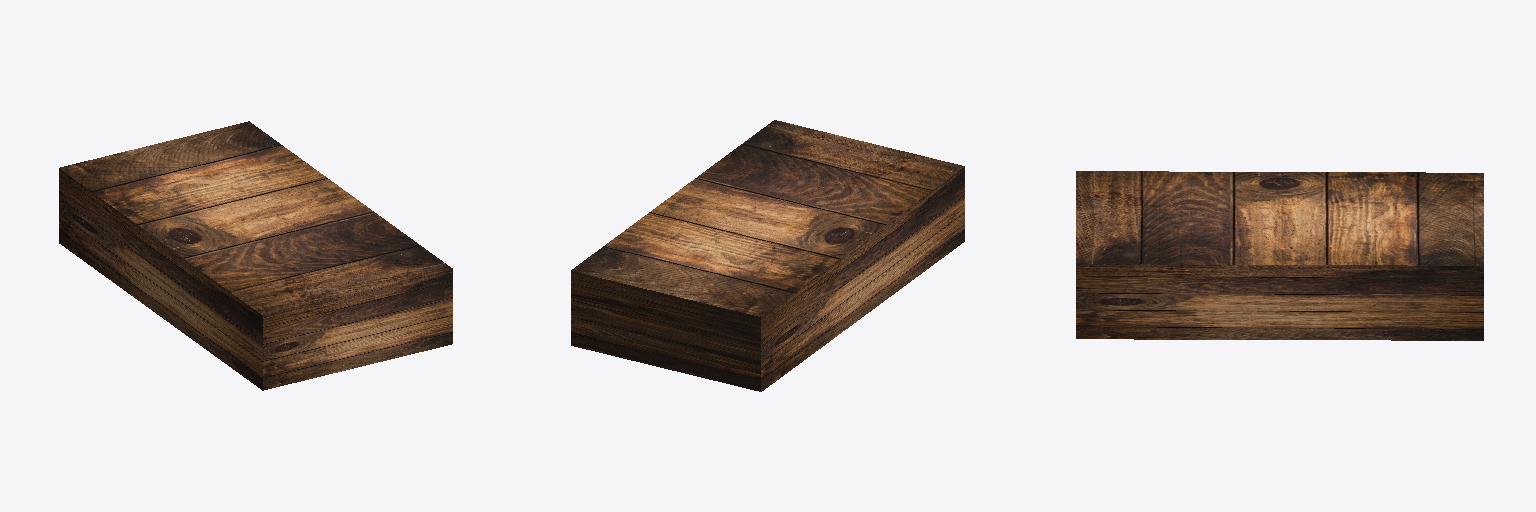
3 views of the same model, side by side, from view 1: azimuth 30°, elevation 25°; view 2: azimuth 150°, elevation 25°; view 3: azimuth 270°, elevation 25° (orthographic).
Parts seen in each view (by area): view 1: Board_Cube.001; view 2: Board_Cube.001; view 3: Board_Cube.001.
Boxes of the visible parts, box(x1,y1,x2,y2) form: Board_Cube.001: box(59, 121, 452, 390); Board_Cube.001: box(571, 120, 964, 391); Board_Cube.001: box(1076, 171, 1483, 340).
Size of the model in its own units: 6.99 by 2.68 by 12.96.
Materials: 1 (1 with a texture image).